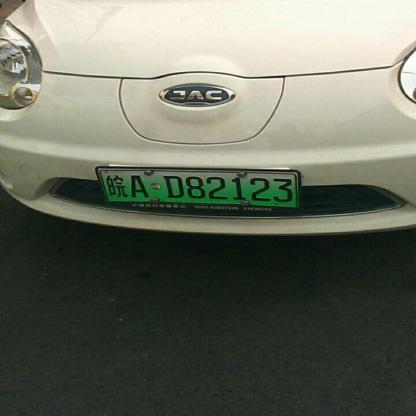lp: (98, 170, 297, 207)
